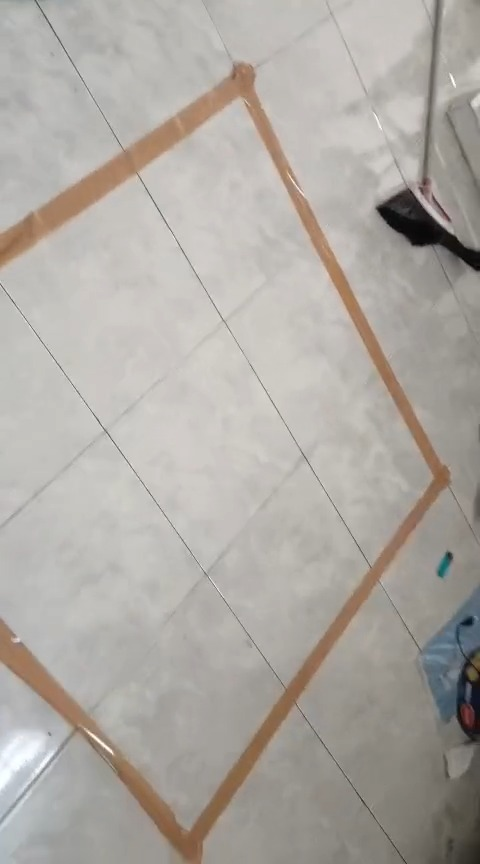floor marking: (0, 64, 449, 863)
